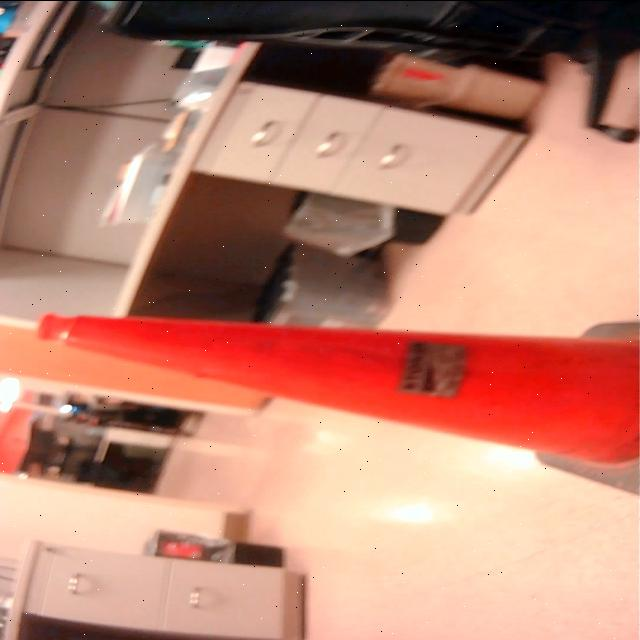traffic cone: (21, 309, 640, 503)
